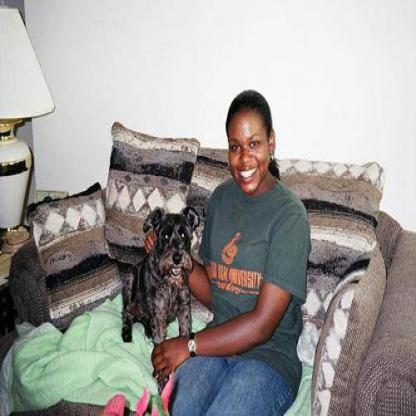dog: (124, 188, 206, 362)
